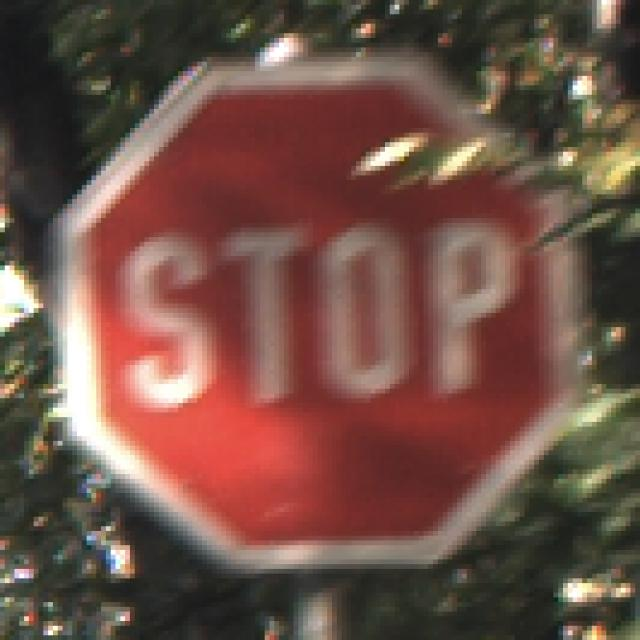STOP: (54, 53, 588, 589)
